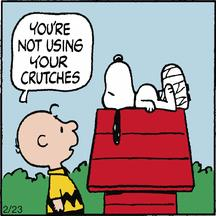snoopy: (101, 52, 193, 148), (11, 100, 85, 216)
